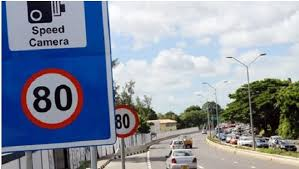Speed_limit_80km: (21, 68, 83, 129), (109, 106, 140, 137)
